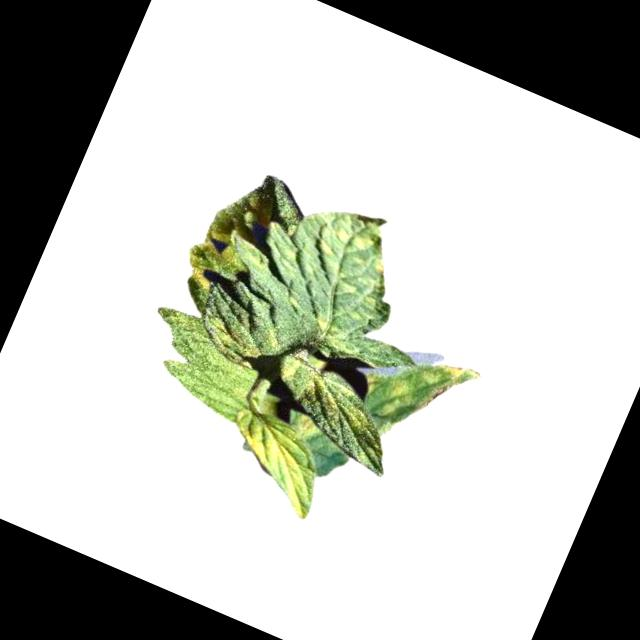Leaf_Mold: (345, 330, 486, 465), (212, 404, 340, 522), (269, 355, 376, 435), (308, 197, 404, 281), (176, 220, 247, 299)
